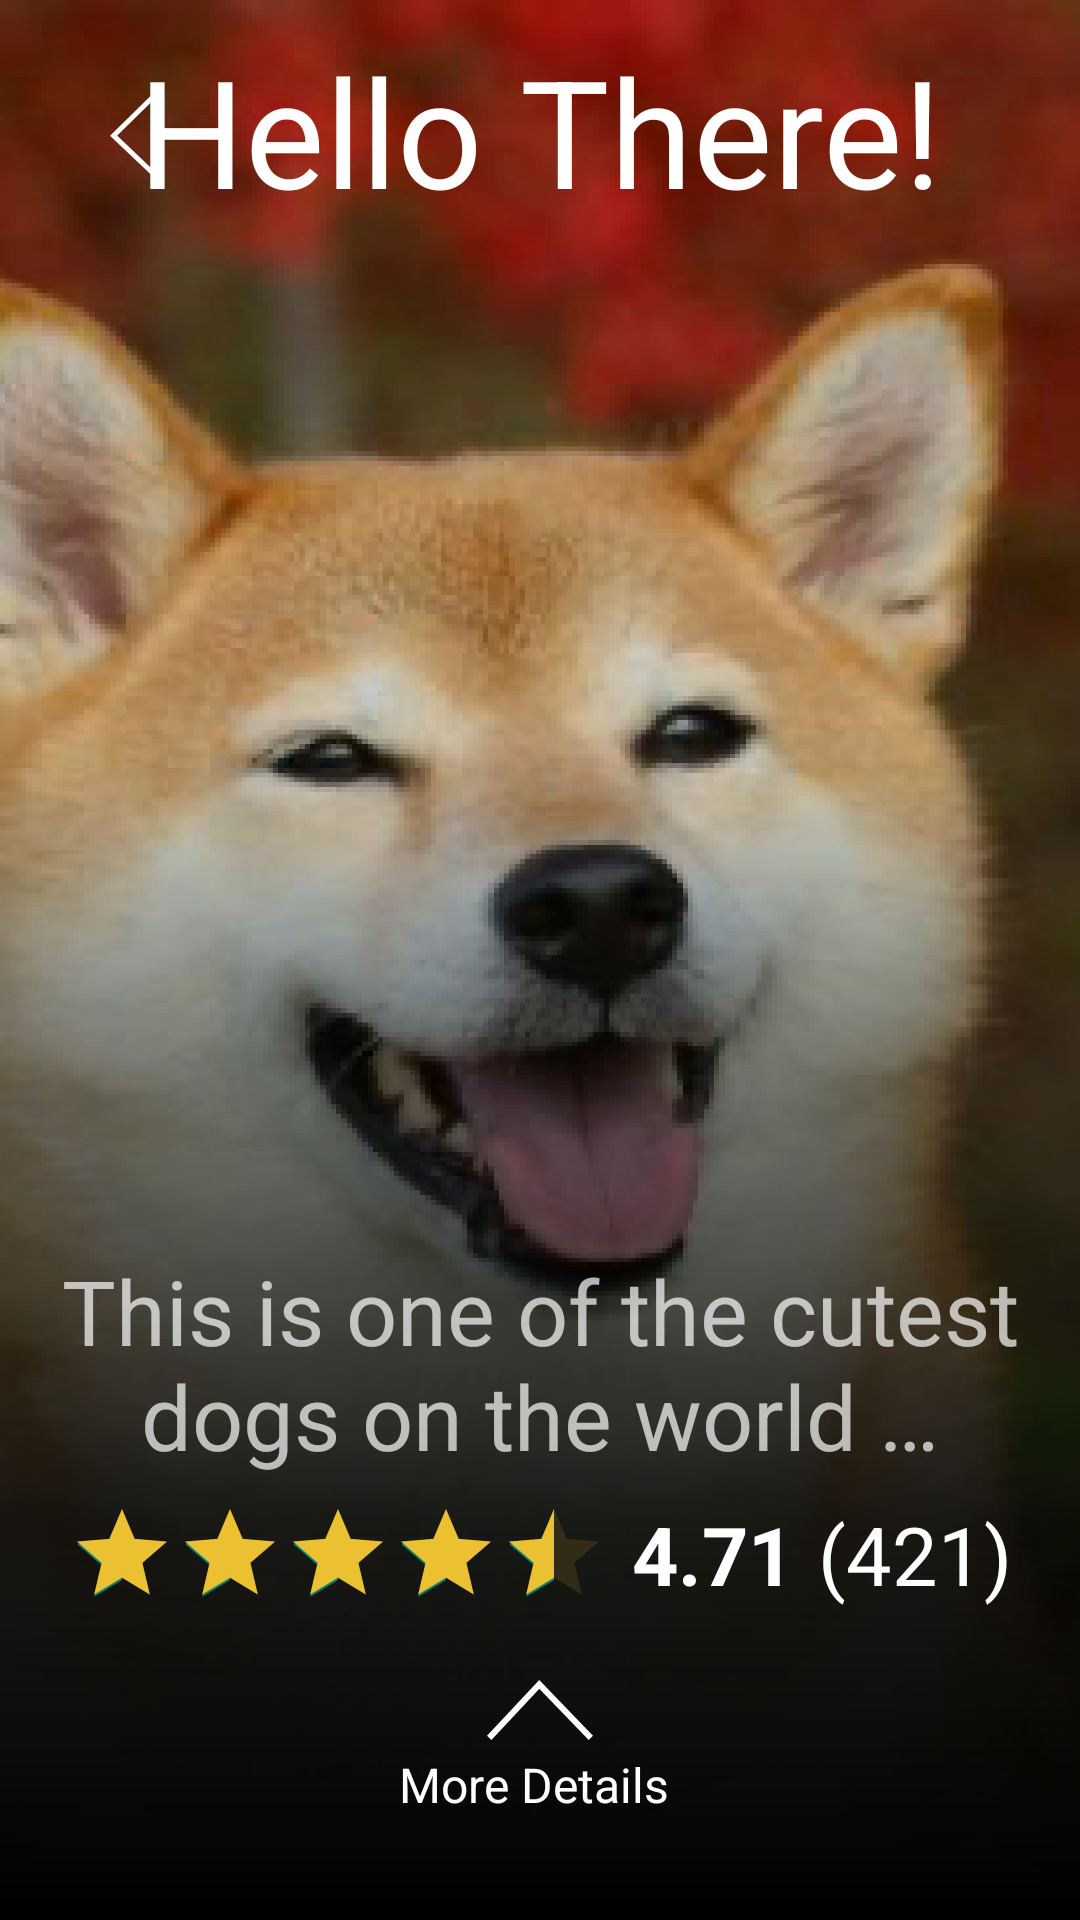

Screen size 1080px x 1920px. Icon name, then its box in pixels as box(x1, y1, x2, y2):
Second up arrow: box(487, 1680, 593, 1740)
